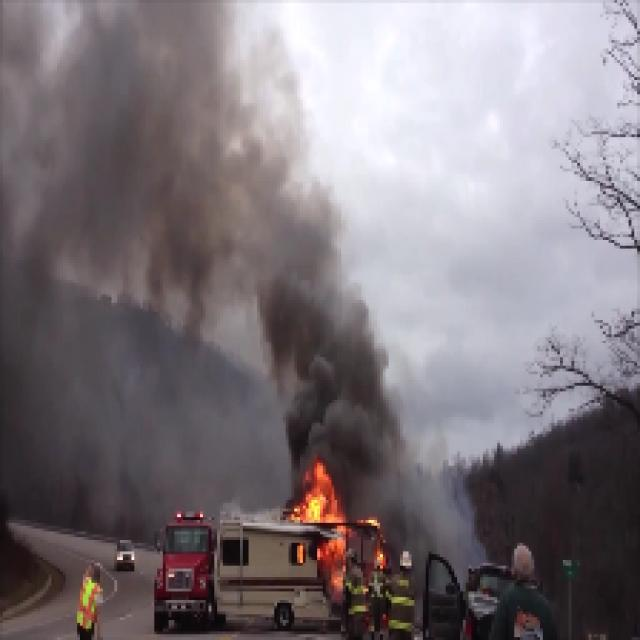fire: (294, 470, 334, 517)
smoke: (83, 55, 229, 265), (268, 280, 370, 451)
